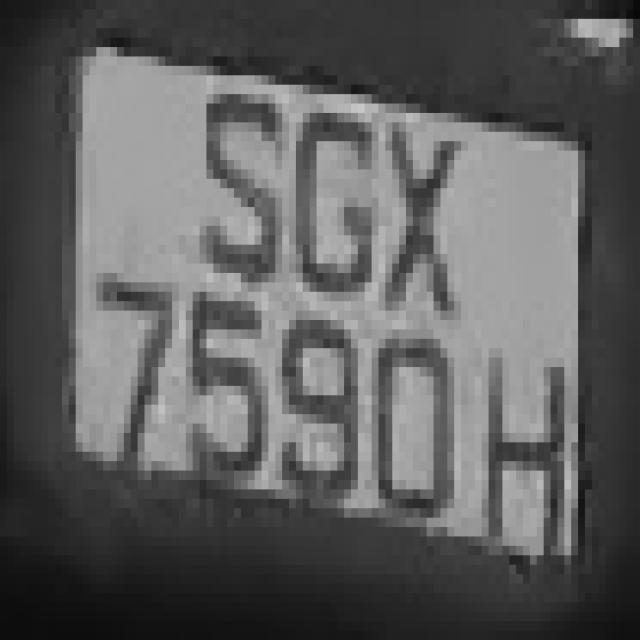0: (351, 301, 461, 537)
5: (172, 254, 268, 490)
7: (69, 216, 165, 480)
9: (261, 282, 358, 518)
G: (289, 75, 379, 348)
H: (468, 348, 571, 602)
S: (179, 57, 275, 301)
X: (358, 56, 468, 348)
